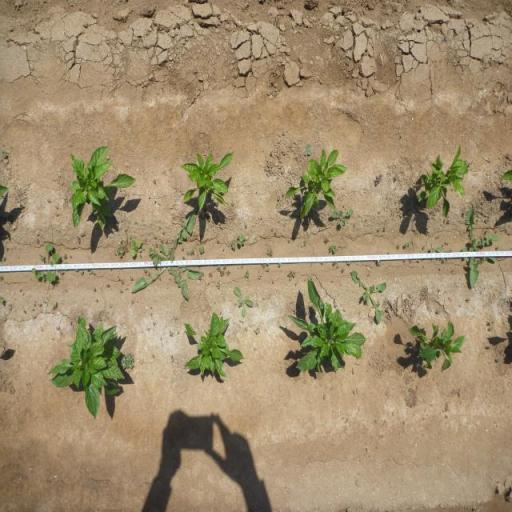plant: (287, 277, 370, 377), (48, 313, 125, 420), (68, 146, 138, 232), (282, 146, 348, 219), (182, 311, 243, 382), (412, 143, 468, 219), (180, 148, 235, 212), (409, 317, 468, 375)
weed: (129, 210, 202, 304), (459, 206, 501, 290), (351, 269, 391, 325), (233, 285, 256, 318), (46, 242, 60, 284), (330, 208, 354, 226), (130, 236, 142, 259), (30, 268, 46, 284), (429, 244, 443, 262), (121, 352, 135, 370), (237, 232, 247, 247), (374, 172, 384, 186), (116, 246, 126, 258), (287, 268, 296, 281), (304, 142, 312, 156), (328, 244, 338, 253), (51, 300, 58, 312), (186, 248, 196, 256), (0, 150, 10, 158), (230, 240, 236, 252), (254, 326, 261, 336), (488, 320, 494, 331), (267, 248, 274, 257), (148, 246, 154, 256), (38, 254, 45, 262), (244, 270, 250, 279), (216, 264, 222, 272), (199, 246, 205, 254), (88, 270, 96, 276), (0, 296, 5, 305), (170, 354, 175, 363), (376, 260, 383, 266), (260, 264, 270, 268), (405, 242, 411, 248), (220, 270, 226, 276), (216, 281, 220, 290), (441, 258, 448, 263), (170, 330, 174, 337), (143, 268, 148, 273), (347, 262, 353, 266), (64, 254, 68, 260), (80, 270, 84, 275), (228, 270, 230, 276)
